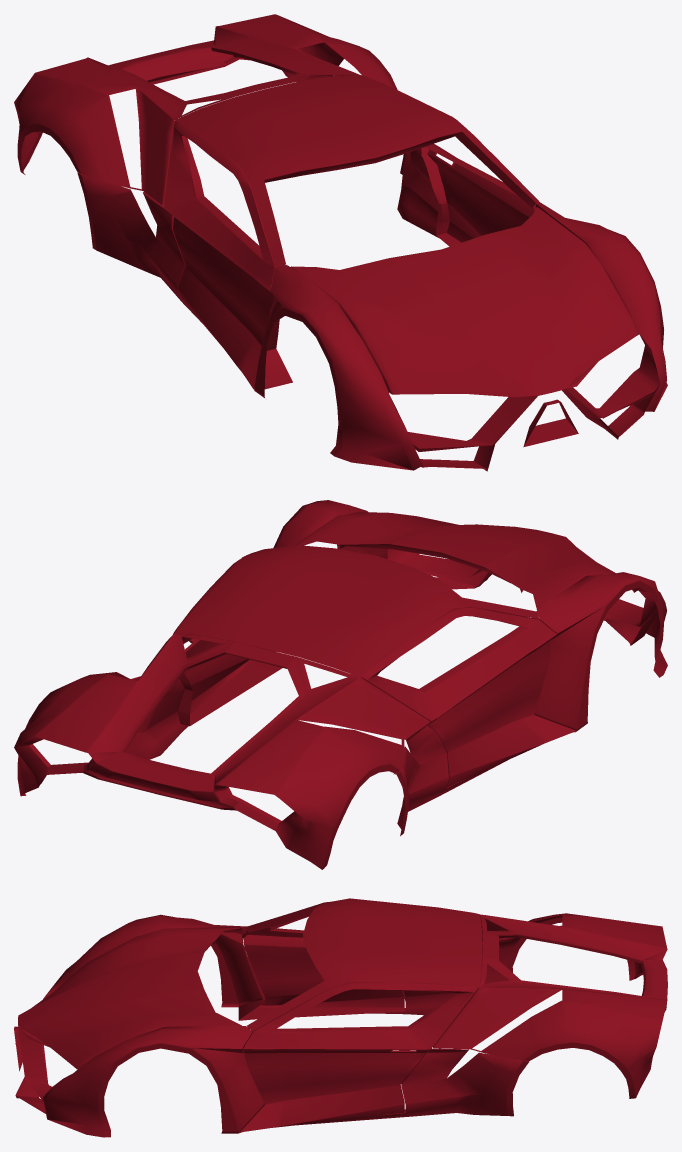
File: carbody.fbx
3 renders of one model, top to bottom at view 1: azimuth 30°, elevation 25°; view 2: azimuth 150°, elevation 25°; view 3: azimuth 270°, elevation 25°, orthographic. The views are drawn at different scales.
Visible parts, largest first — view 1: FC2; view 2: FC2; view 3: FC2.
Boxes of the visible parts, x1,y1,x2,y2 form: FC2: (14, 14, 667, 471); FC2: (14, 500, 667, 869); FC2: (14, 898, 667, 1137).
Bounding box in the file's own units: 422 × 209 × 893.
